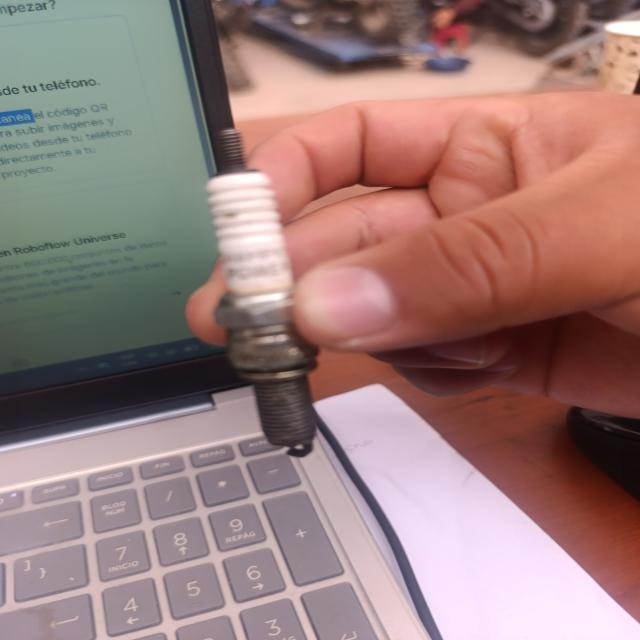Mause: (208, 129, 317, 457)
